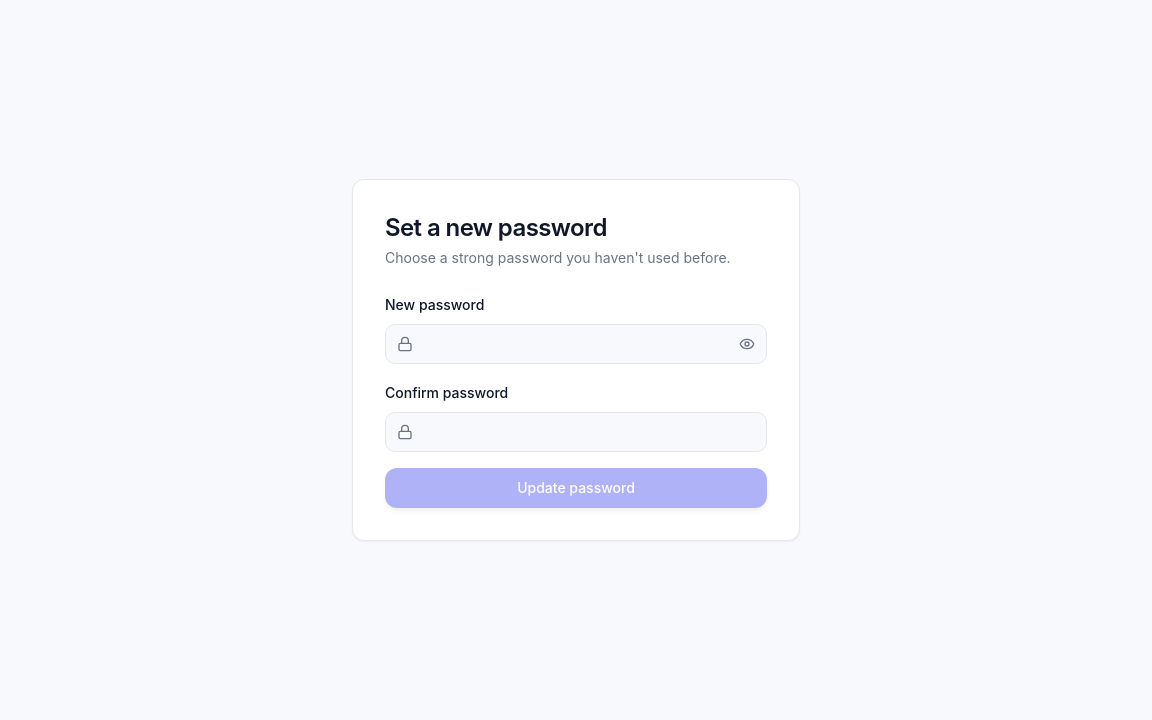
Scenario: ResetPassword page › surfaces server-side errors from updateUser and logs the failure
Type "StrongPass1" into the password field labelled "New password" at (576, 344), box [385, 324, 767, 364]
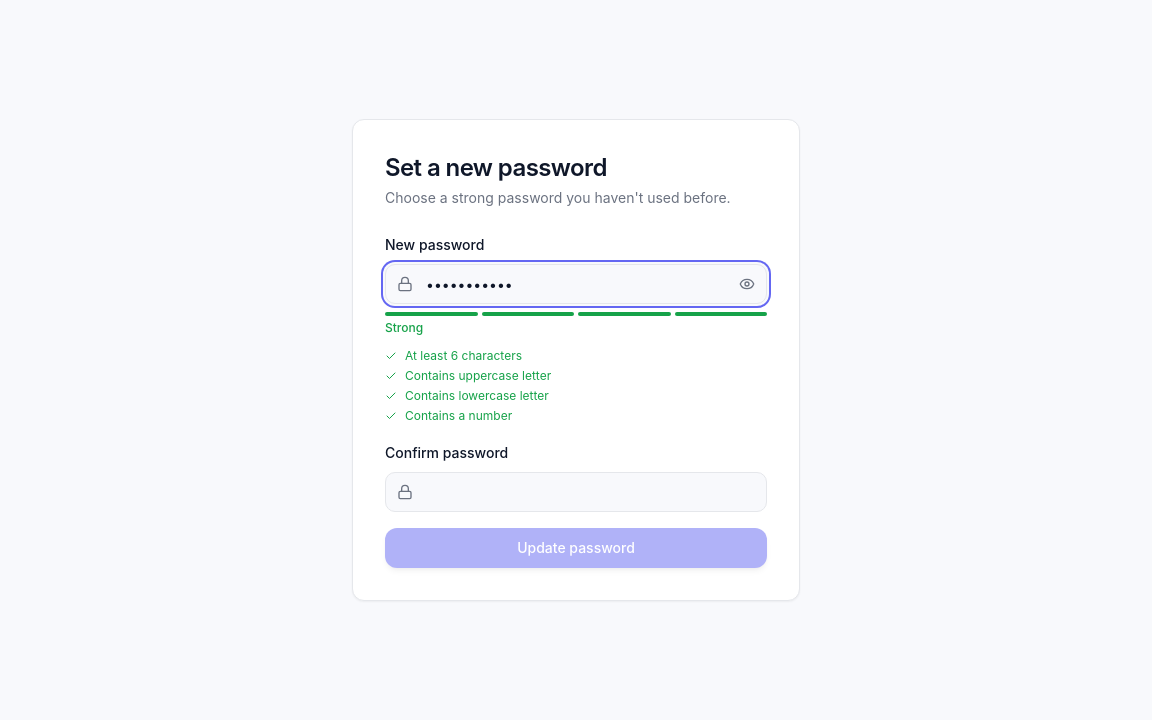
Type "StrongPass1" into the password field labelled "Confirm password" at (576, 492), box [385, 472, 767, 512]
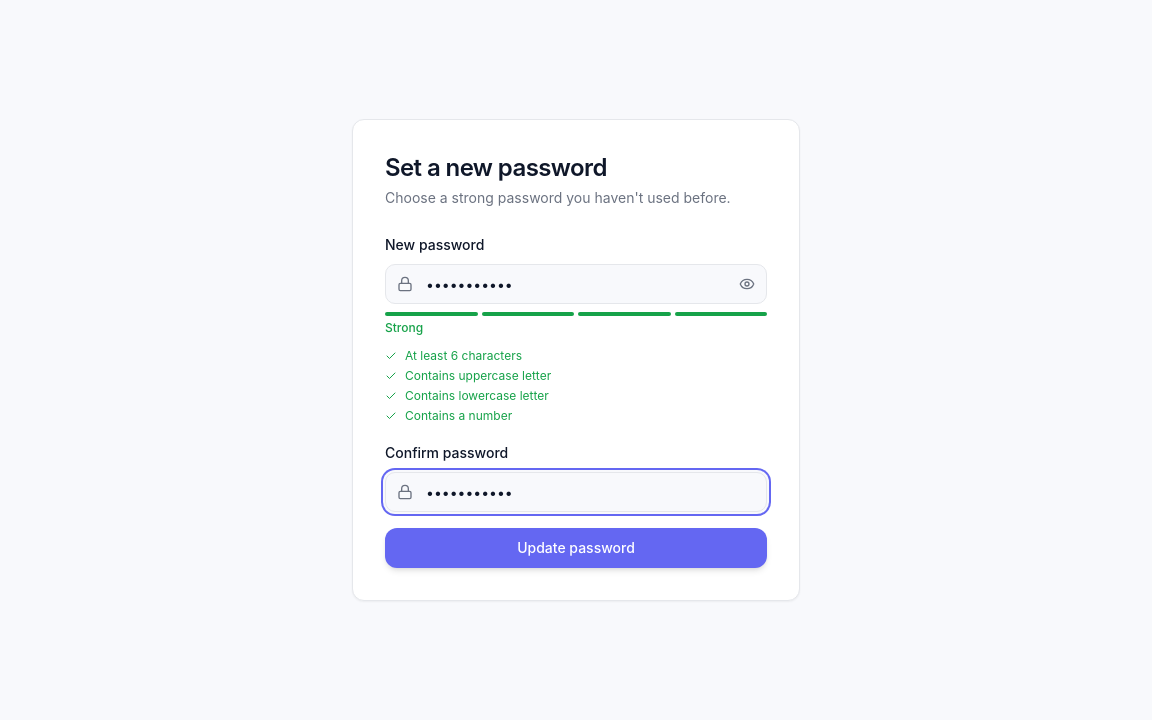
Click the button "Update password" at (576, 548), box [385, 528, 767, 568]
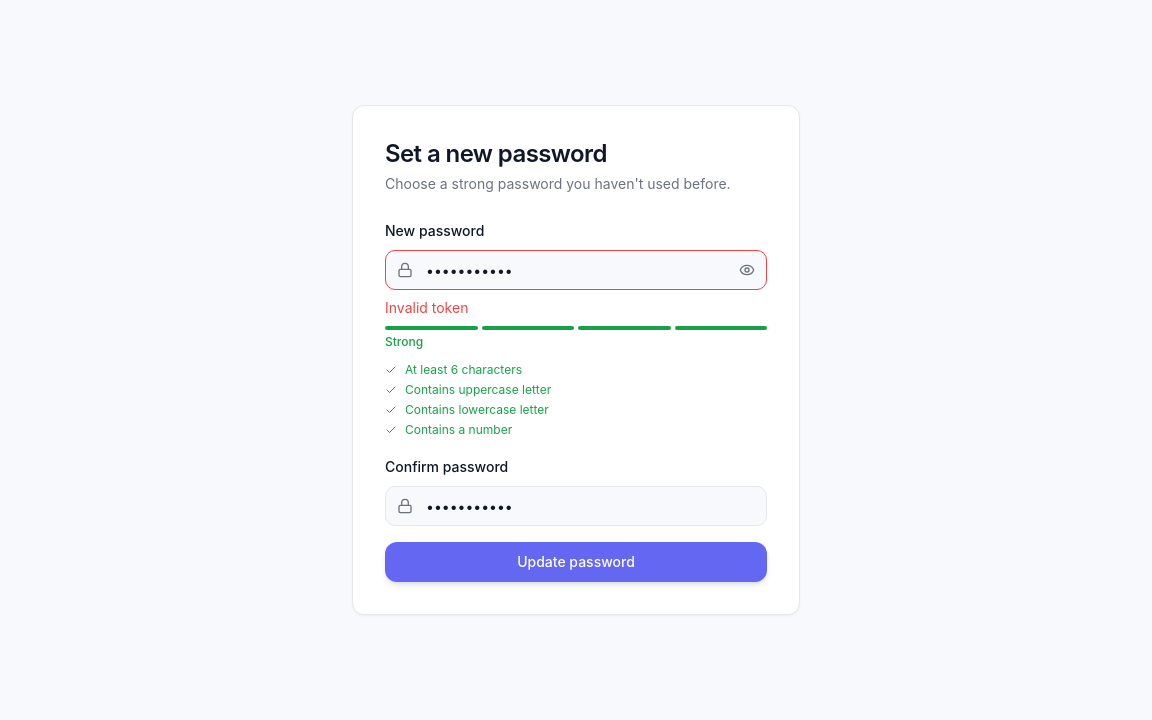
Check: the text "Invalid token" is shown, box [385, 299, 468, 316]
